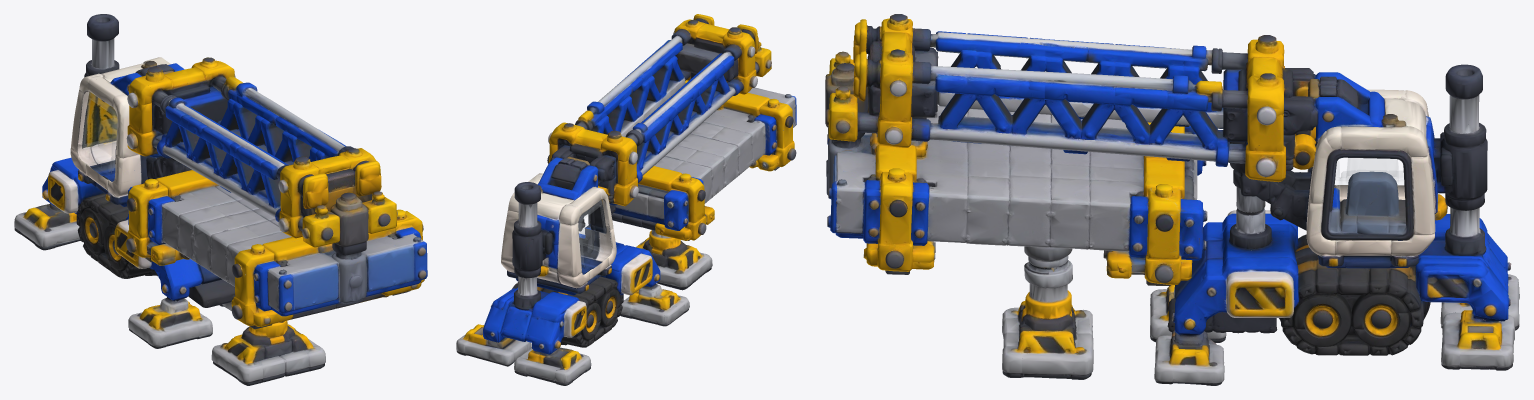
File: launcher.glb
3 views of the same model, side by side, from view 1: azimuth 30°, elevation 25°; view 2: azimuth 150°, elevation 25°; view 3: azimuth 270°, elevation 25° (orthographic). The views are drawn at different scales.
Parts seen in each view (by area): view 1: tripo_part_0, tripo_part_1, tripo_part_4, tripo_part_6, tripo_part_11, tripo_part_21, tripo_part_2, tripo_part_22, tripo_part_33, tripo_part_15, tripo_part_18, tripo_part_29 (+33 smaller); view 2: tripo_part_1, tripo_part_0, tripo_part_4, tripo_part_12, tripo_part_13, tripo_part_6, tripo_part_15, tripo_part_29, tripo_part_31, tripo_part_18, tripo_part_11, tripo_part_32 (+30 smaller); view 3: tripo_part_0, tripo_part_1, tripo_part_29, tripo_part_13, tripo_part_4, tripo_part_6, tripo_part_7, tripo_part_5, tripo_part_14, tripo_part_15, tripo_part_12, tripo_part_28 (+39 smaller).
Boxes of the visible parts, x1=… form: tripo_part_0: x1=161, y1=187, x2=291, y2=286; tripo_part_1: x1=70, y1=57, x2=170, y2=206; tripo_part_4: x1=126, y1=57, x2=280, y2=217; tripo_part_6: x1=275, y1=146, x2=381, y2=238; tripo_part_11: x1=211, y1=324, x2=325, y2=385; tripo_part_21: x1=267, y1=251, x2=341, y2=316; tripo_part_2: x1=231, y1=209, x2=424, y2=329; tripo_part_22: x1=362, y1=234, x2=427, y2=296; tripo_part_33: x1=330, y1=192, x2=370, y2=303; tripo_part_15: x1=151, y1=90, x2=287, y2=179; tripo_part_18: x1=128, y1=297, x2=212, y2=348; tripo_part_29: x1=210, y1=75, x2=345, y2=157; tripo_part_1: x1=501, y1=173, x2=616, y2=295; tripo_part_0: x1=654, y1=108, x2=765, y2=203; tripo_part_4: x1=548, y1=86, x2=735, y2=206; tripo_part_12: x1=483, y1=287, x2=579, y2=354; tripo_part_13: x1=511, y1=182, x2=552, y2=309; tripo_part_6: x1=671, y1=14, x2=758, y2=95; tripo_part_15: x1=625, y1=51, x2=734, y2=146; tripo_part_29: x1=575, y1=35, x2=682, y2=130; tripo_part_31: x1=514, y1=347, x2=591, y2=385; tripo_part_18: x1=620, y1=284, x2=689, y2=326; tripo_part_11: x1=636, y1=237, x2=712, y2=290; tripo_part_32: x1=456, y1=324, x2=531, y2=366; tripo_part_0: x1=916, y1=105, x2=1144, y2=251; tripo_part_1: x1=1306, y1=89, x2=1447, y2=268; tripo_part_29: x1=930, y1=66, x2=1247, y2=111; tripo_part_13: x1=1433, y1=64, x2=1487, y2=256; tripo_part_4: x1=937, y1=35, x2=1290, y2=182; tripo_part_6: x1=853, y1=14, x2=931, y2=147; tripo_part_7: x1=1172, y1=213, x2=1300, y2=335; tripo_part_5: x1=911, y1=116, x2=1245, y2=166; tripo_part_14: x1=1321, y1=149, x2=1414, y2=241; tripo_part_15: x1=930, y1=31, x2=1247, y2=73; tripo_part_12: x1=1415, y1=214, x2=1511, y2=321; tripo_part_28: x1=1279, y1=234, x2=1430, y2=355.
Size of the model in its own units: 1.79 by 2.32 by 4.5.
73 materials, 72 textured.
